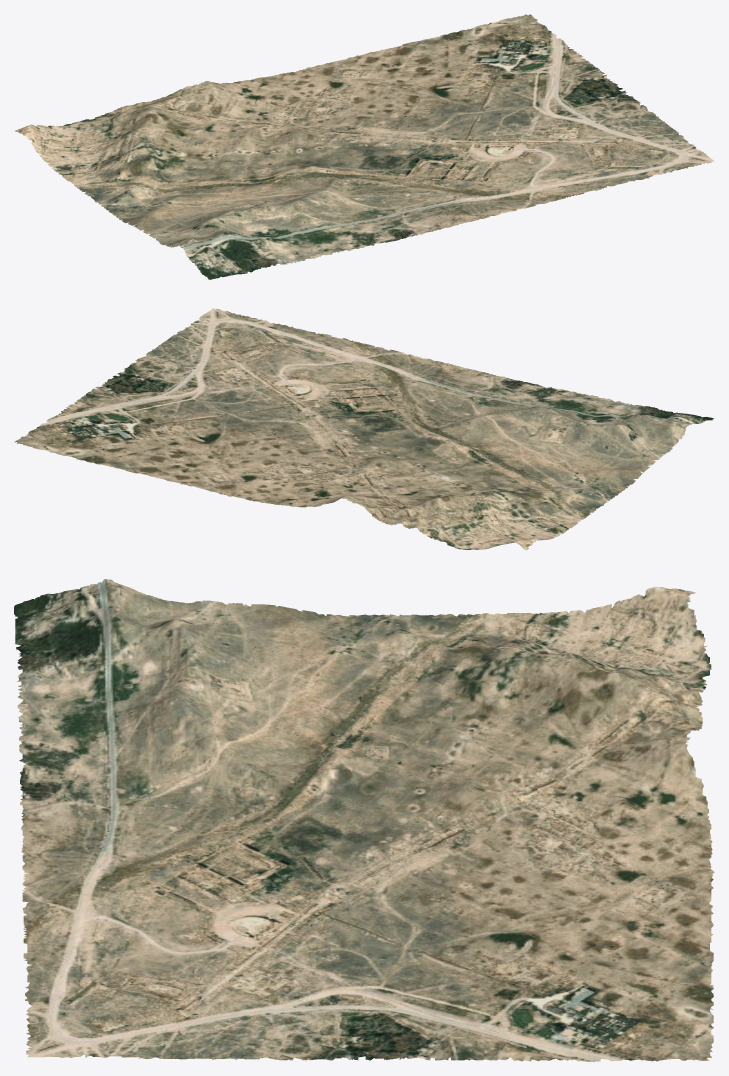
File: Palmyra Landscape 1-2.fbx
3 renders of one model, top to bottom at view 1: azimuth 30°, elevation 25°; view 2: azimuth 150°, elevation 25°; view 3: azimuth 270°, elevation 25°, orthographic. The views are drawn at different scales.
Parts seen in each view (by area): view 1: CityEngineTerrainMaterial_m; view 2: CityEngineTerrainMaterial_m; view 3: CityEngineTerrainMaterial_m.
Boxes of the visible parts, <box> form: CityEngineTerrainMaterial_m: <box>15,14,714,279</box>; CityEngineTerrainMaterial_m: <box>14,308,713,550</box>; CityEngineTerrainMaterial_m: <box>14,579,714,1061</box>.
Size of the model in its own units: 373497 by 16925 by 247744.
